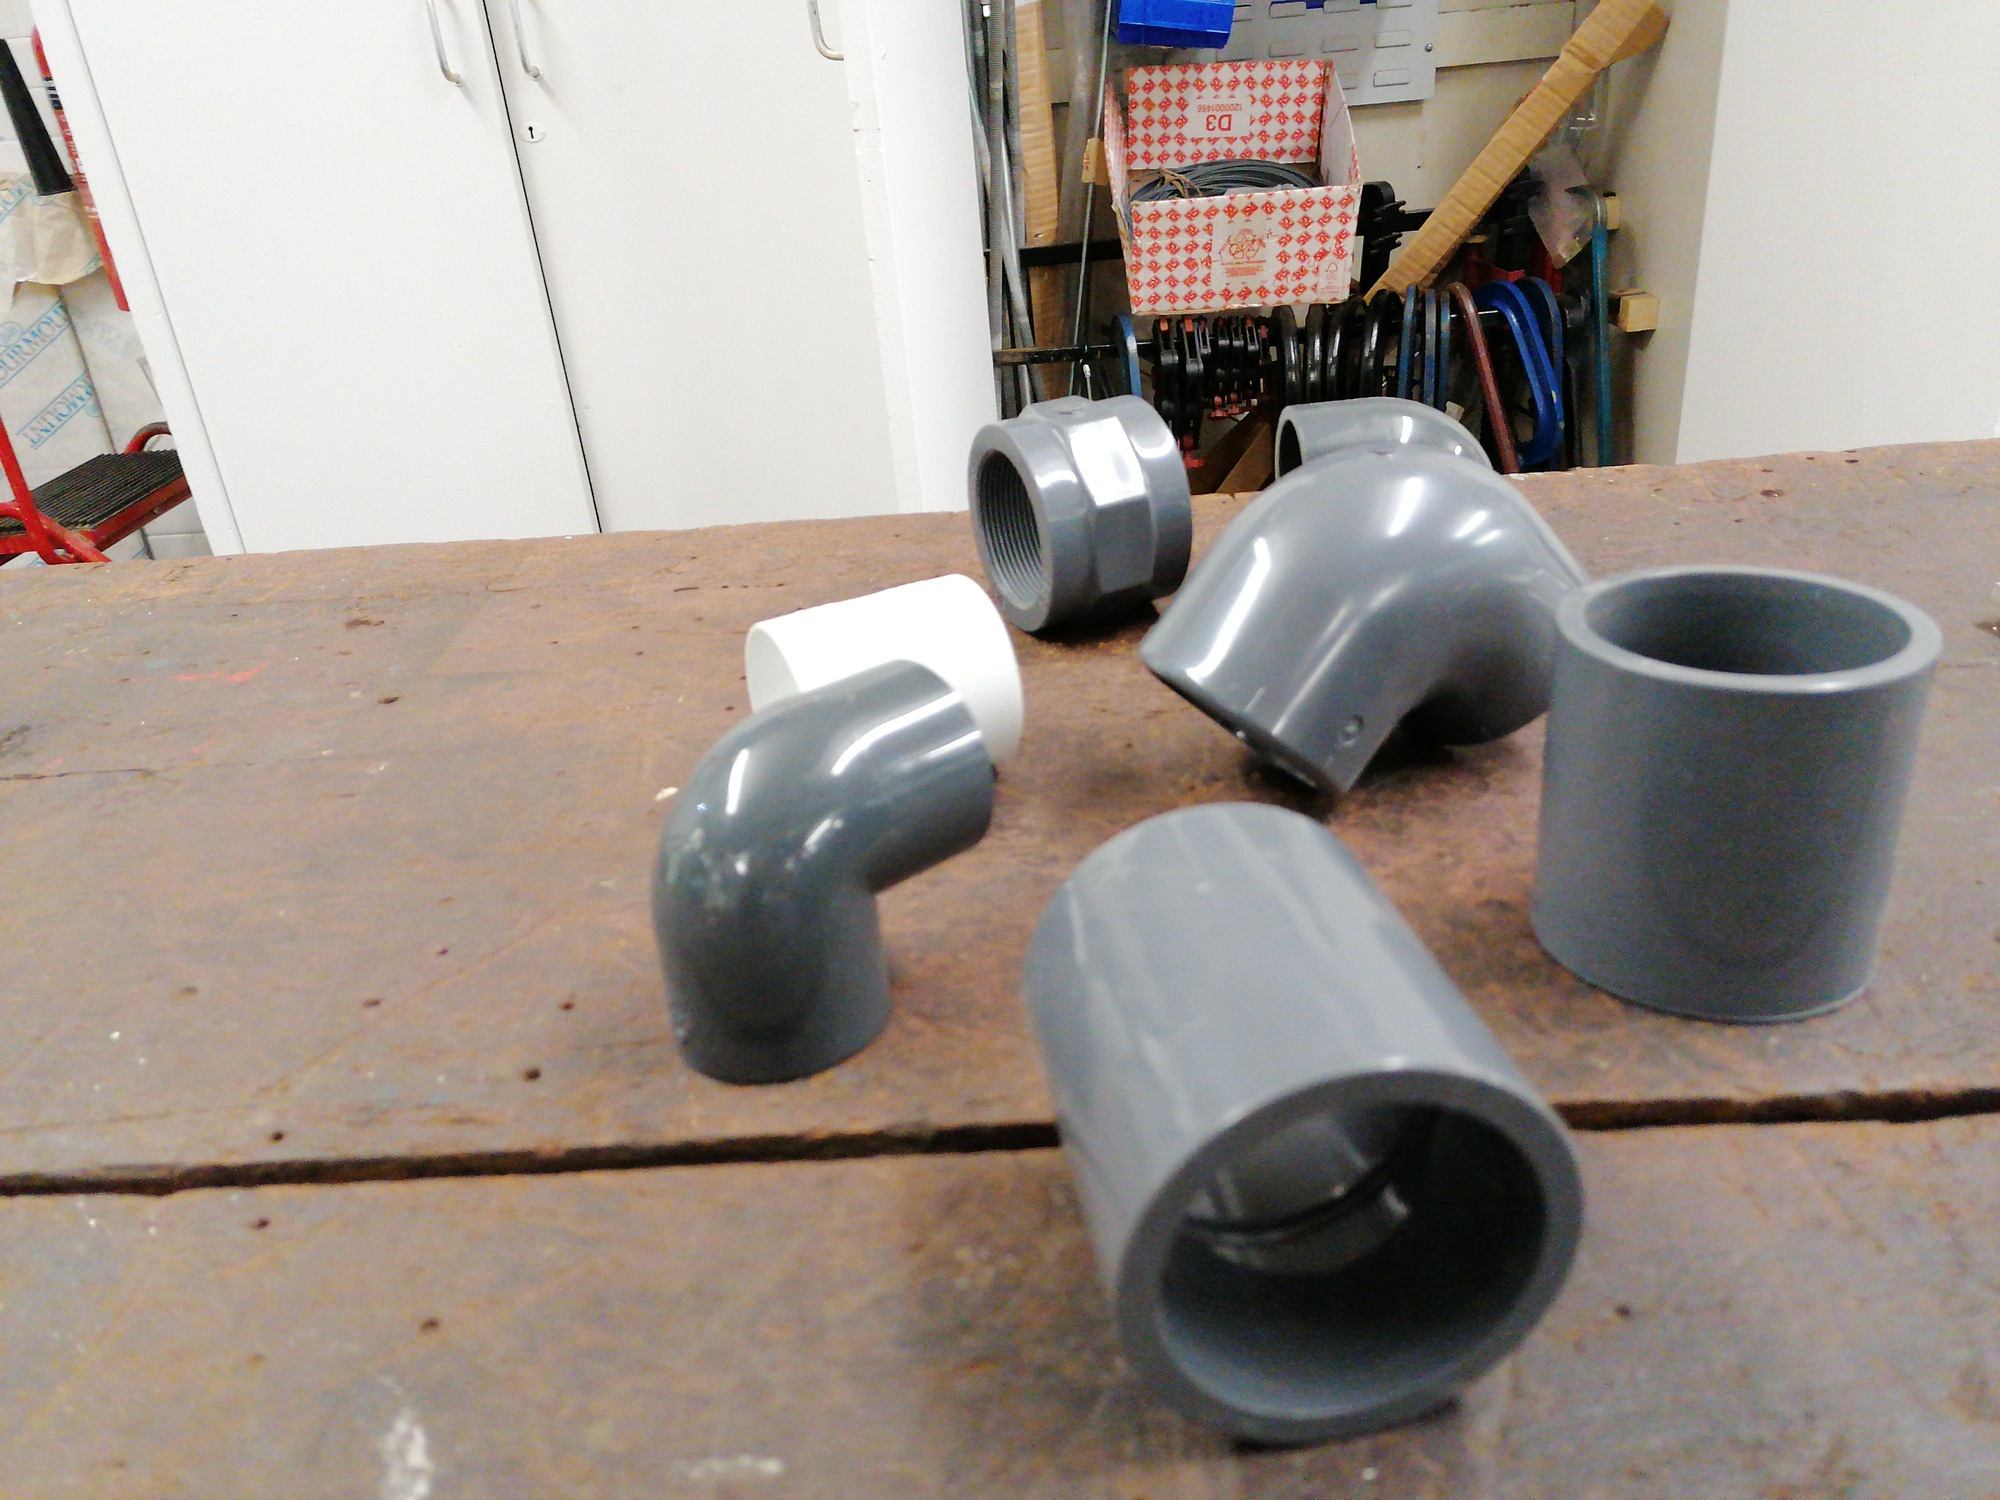nut: (964, 392, 1192, 633)
pipe: (1013, 799, 1587, 1451), (1524, 548, 1946, 1026), (1137, 443, 1602, 799), (647, 662, 995, 1084), (743, 572, 1028, 763), (1272, 395, 1494, 474)
